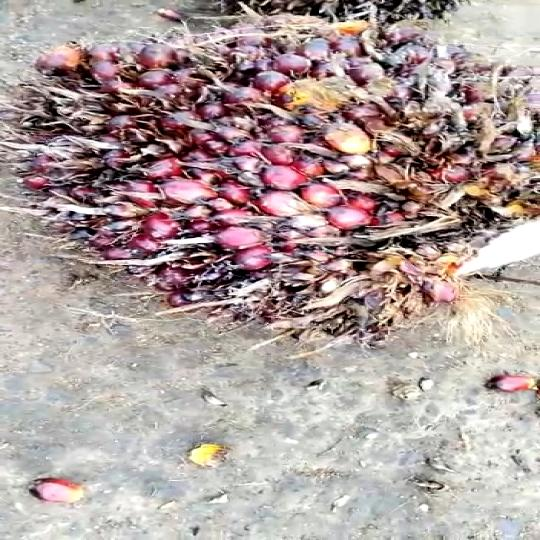masak: (1, 19, 540, 372)
